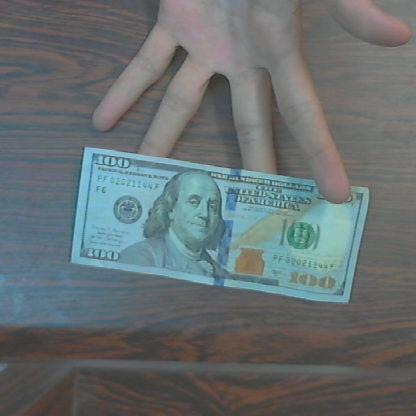one_hundred-front: (67, 145, 374, 306)
